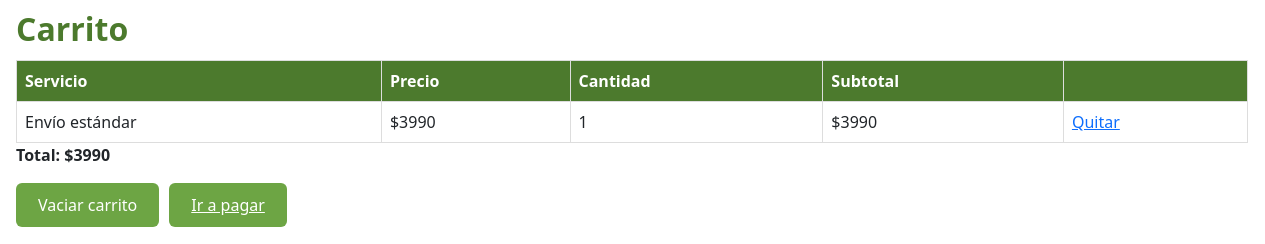
Test: Pruebas de estado y eventos › Saca el producto del carrito al hacer clic en Quitar
Check: the text "Envío estándar" is shown, box [16,102,382,143]
Click the link "Quitar". click: (1096, 122)
box: [1072,111,1120,133]
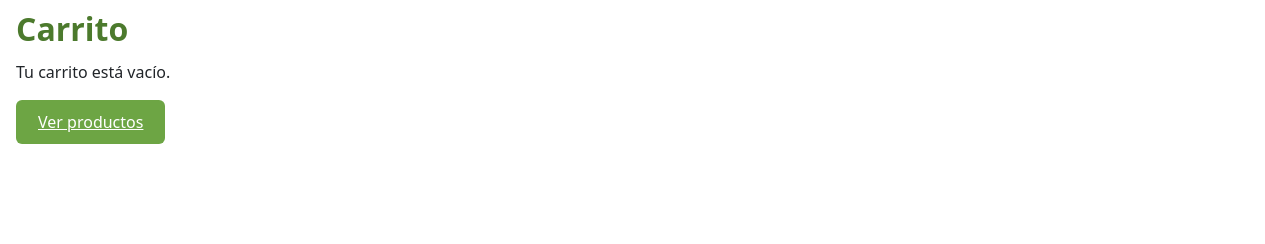
Check: the text "Envío estándar" is gone
Check: the text "Tu carrito está vacío." is shown, box [16,61,170,83]
